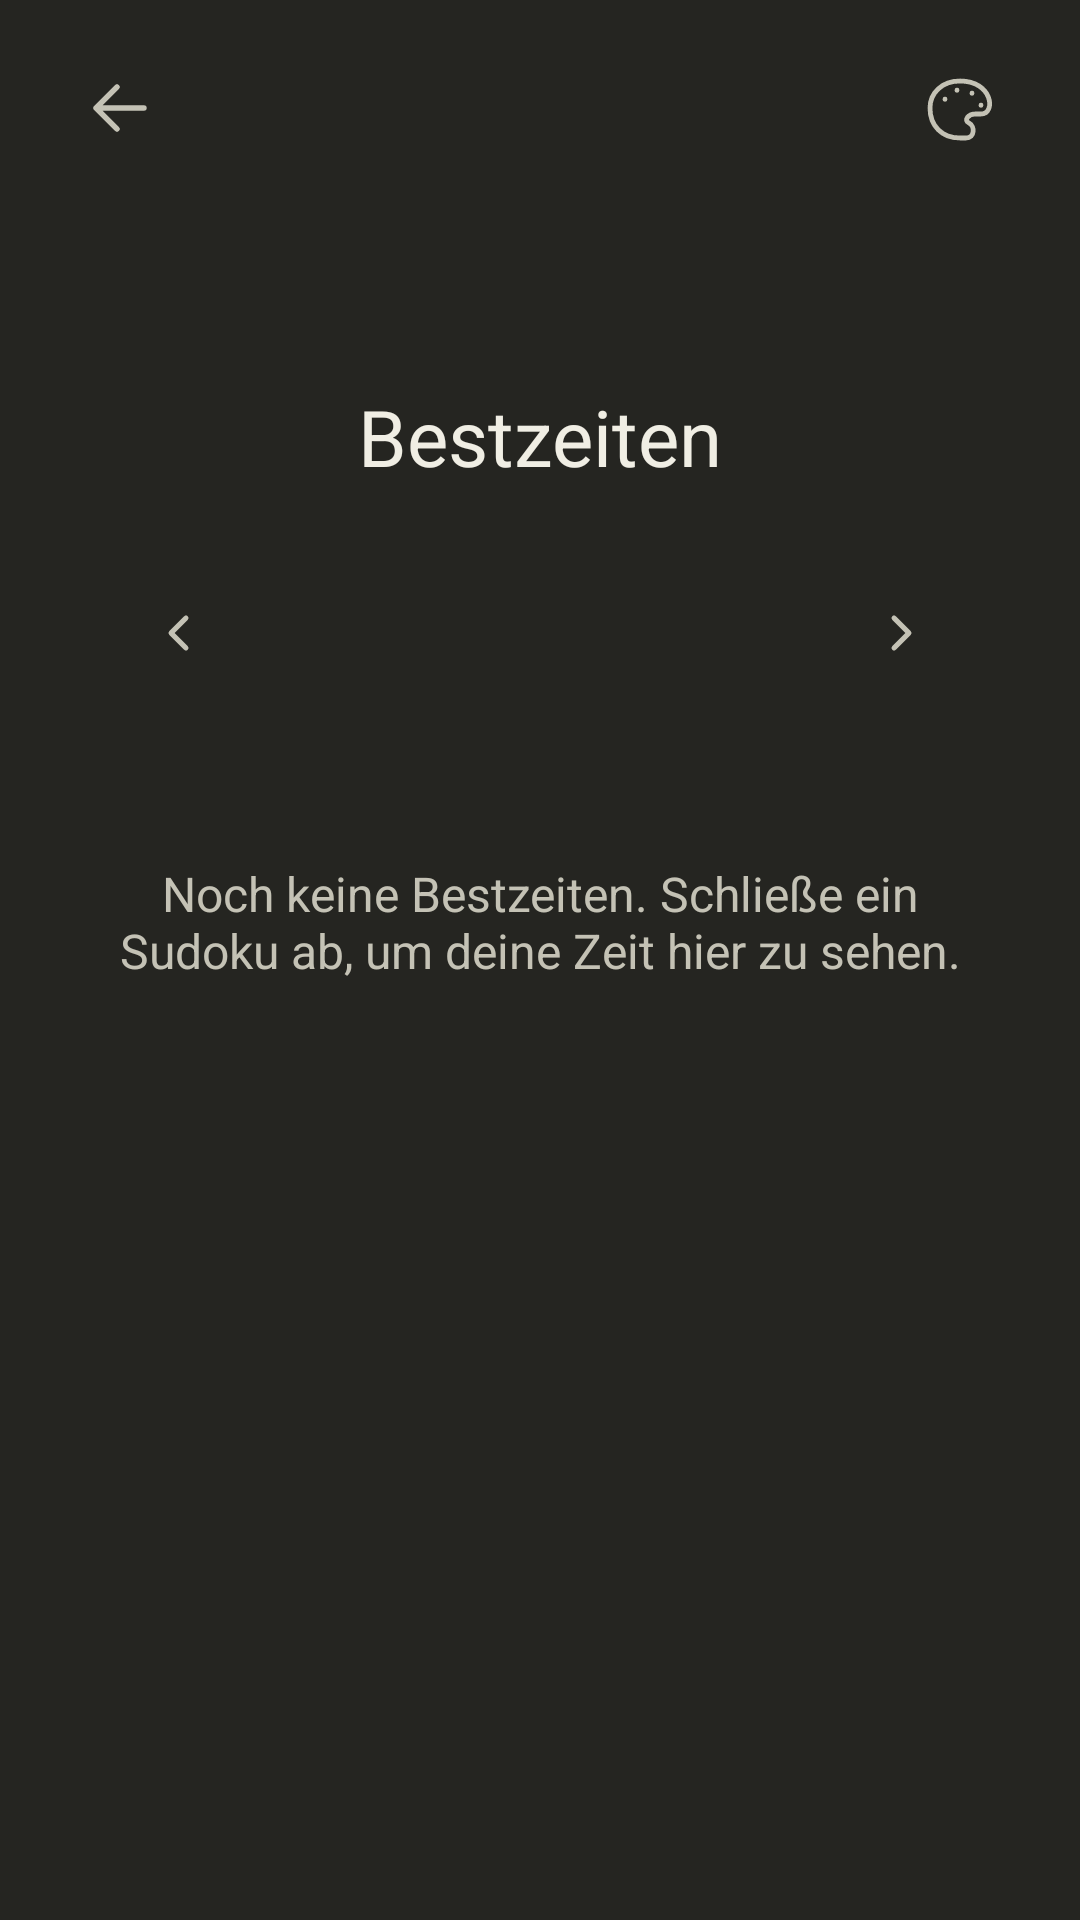

Icon bounding boxes for this 1080×1920 phone screenshot, format (x1, y1, x2, y2):
Farbthema wählen: (927, 78, 992, 141)
Nächste Schwierigkeit: (891, 615, 912, 651)
Vorherige Schwierigkeit: (168, 615, 189, 651)
Zurück: (93, 84, 147, 132)
